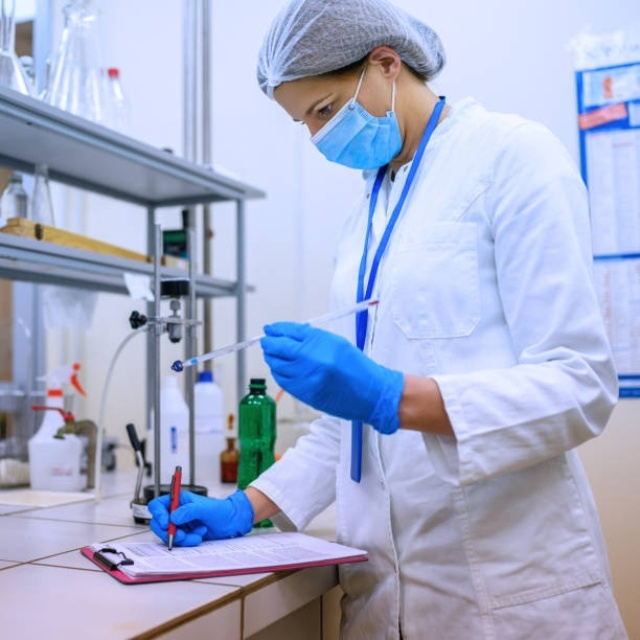Guantes: (260, 320, 404, 432), (155, 488, 254, 544)
Mascara: (305, 62, 404, 171)
Sin_gafas: (290, 84, 343, 131)
